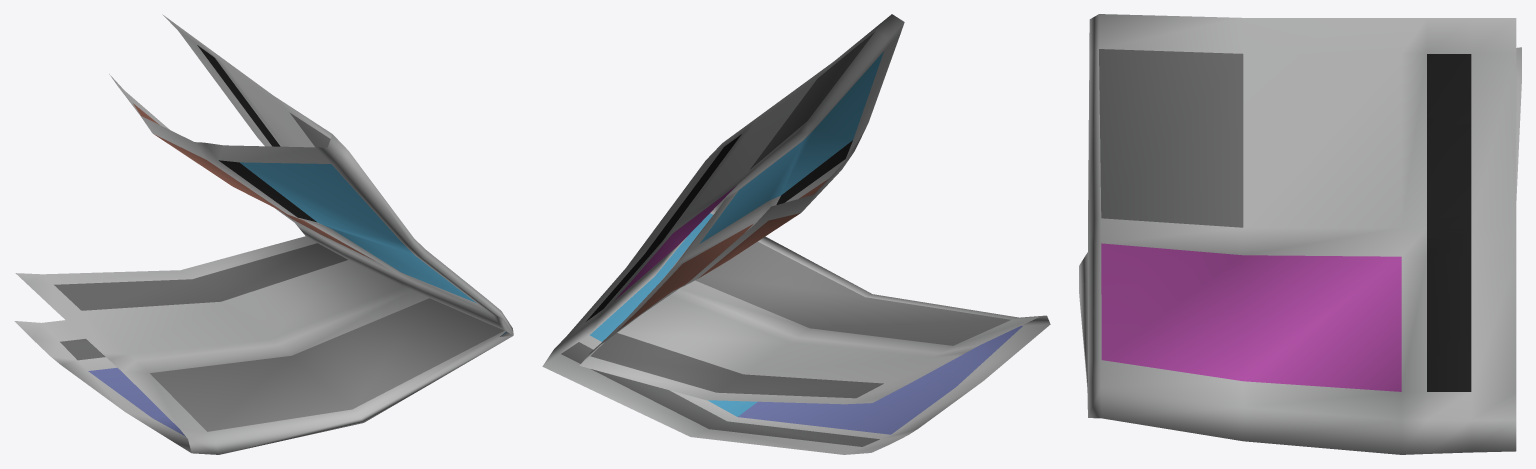
The model's file is furnishings-trash-oldnewspaper_v2.glb.
3 renders of one model, left to right at view 1: azimuth 30°, elevation 25°; view 2: azimuth 150°, elevation 25°; view 3: azimuth 270°, elevation 25°, orthographic. The views are drawn at different scales.
Parts seen in each view (by area): view 1: OldNewspaper_v2; view 2: OldNewspaper_v2; view 3: OldNewspaper_v2.
Part boxes in pixels (x1,y1,x2,y2): OldNewspaper_v2: (14,14,513,454); OldNewspaper_v2: (542,14,1050,454); OldNewspaper_v2: (1079,14,1521,454).
Size of the model in its own units: 0.0103 by 0.00946 by 0.00972.
